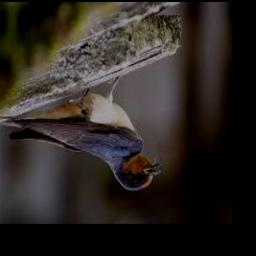Swallow: (3, 76, 162, 190)
